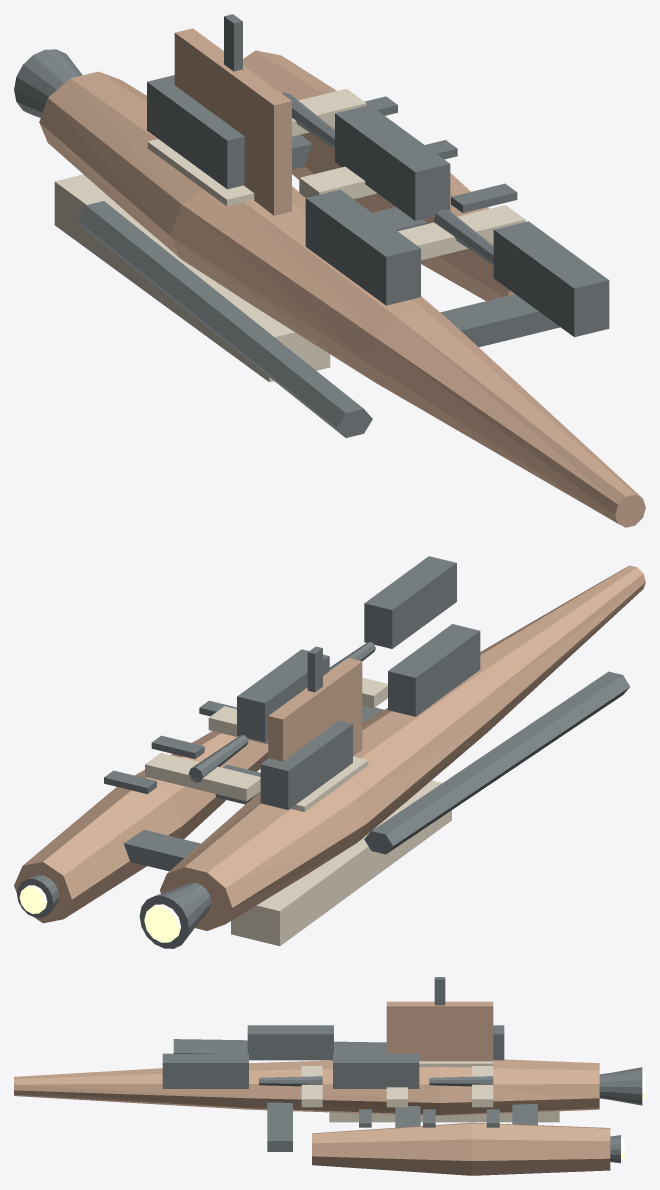
3 renders of one model, top to bottom at view 1: azimuth 30°, elevation 25°; view 2: azimuth 150°, elevation 25°; view 3: azimuth 270°, elevation 25°, orthographic. The views are drawn at different scales.
Bounding box in the file's own units: 6.39 × 4.58 × 17.57.
